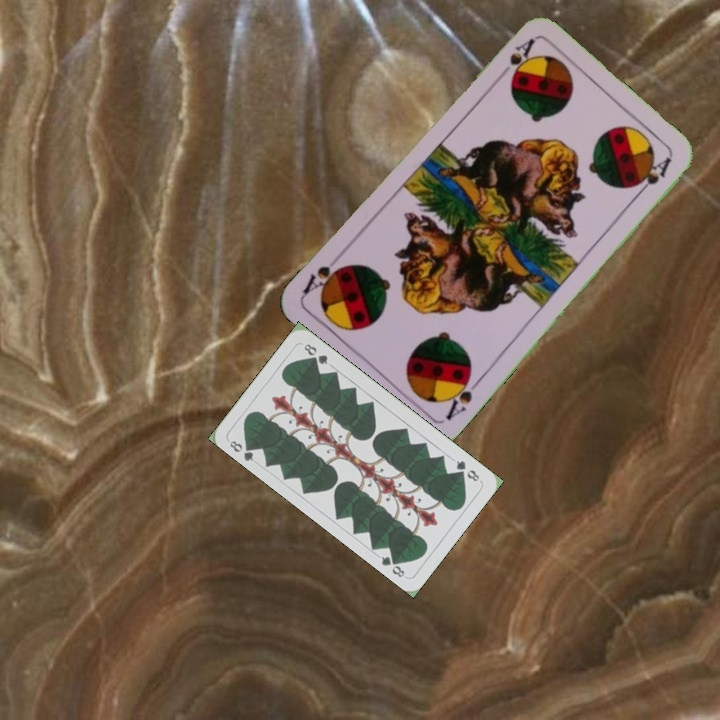G8: (225, 436, 258, 464), (452, 456, 482, 484)
SA: (441, 368, 484, 423), (492, 34, 537, 82)
